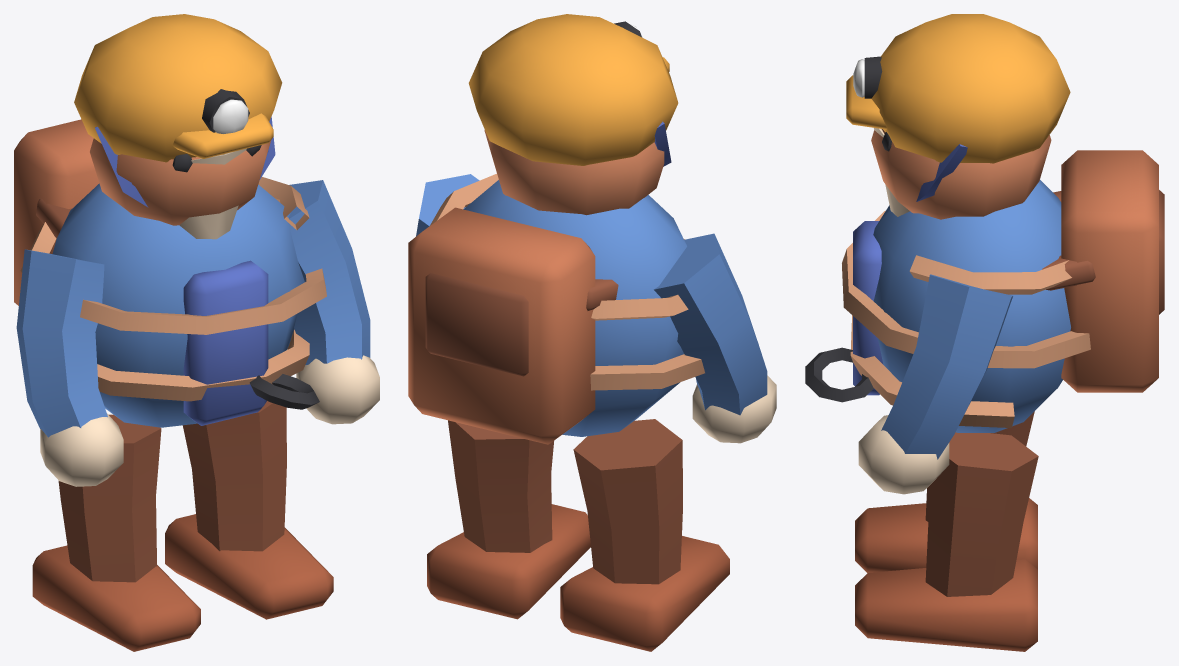
Rendered from mountain_climbers.glb.
3 views of the same model, side by side, from view 1: azimuth 30°, elevation 25°; view 2: azimuth 150°, elevation 25°; view 3: azimuth 270°, elevation 25° (orthographic).
Parts seen in each view (by area): view 1: MountainClimbers; view 2: MountainClimbers; view 3: MountainClimbers.
Boxes of the visible parts, x1,y1,x2,y2 form: MountainClimbers: [14, 14, 379, 651]; MountainClimbers: [408, 14, 776, 651]; MountainClimbers: [805, 14, 1164, 651].
Bounding box in the file's own units: 1.14 × 1.85 × 1.05.
Materials: 1 (1 with a texture image).
